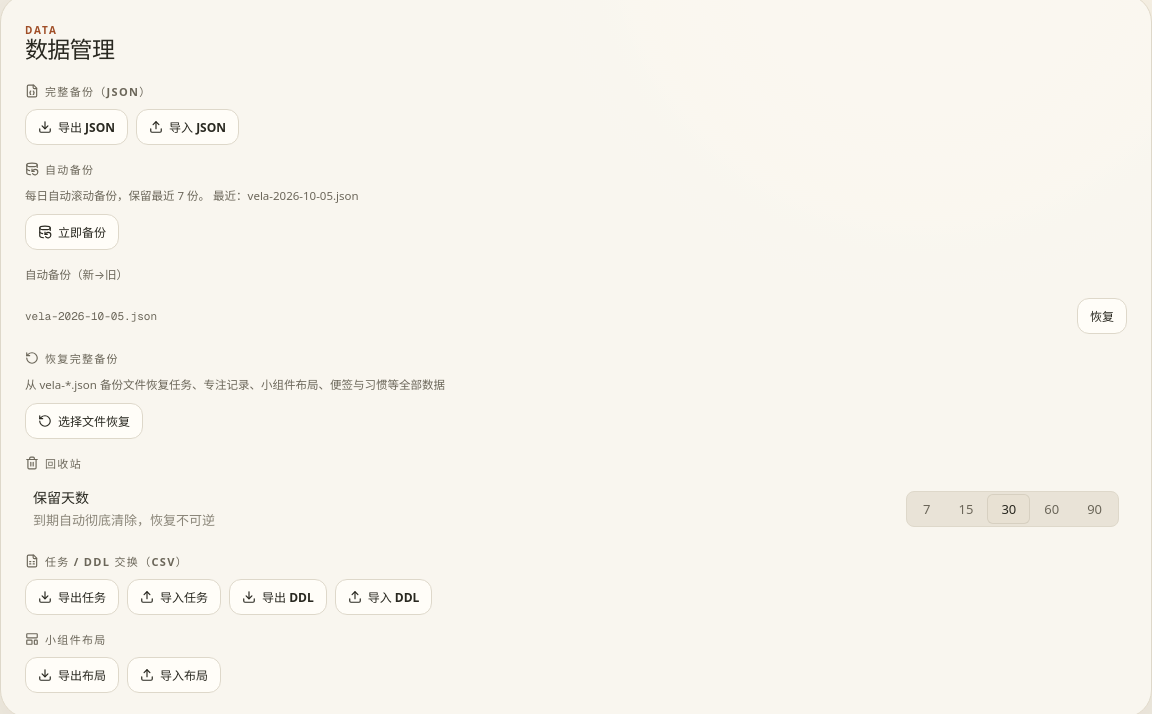
Test: DataPanel · 恢复失败（P1-7 PostImportError 路径） › 导入成功但镜像写回抛错：flash 显示「已导入数据库，但本地数据镜像写回失败」文案，遮罩消退，闸门未 release
What coordinates should you click on to do the following:
click the button "恢复"
I would click on:
 (1102, 316)
Its box is [1077,298,1127,334].
(page scrolled)
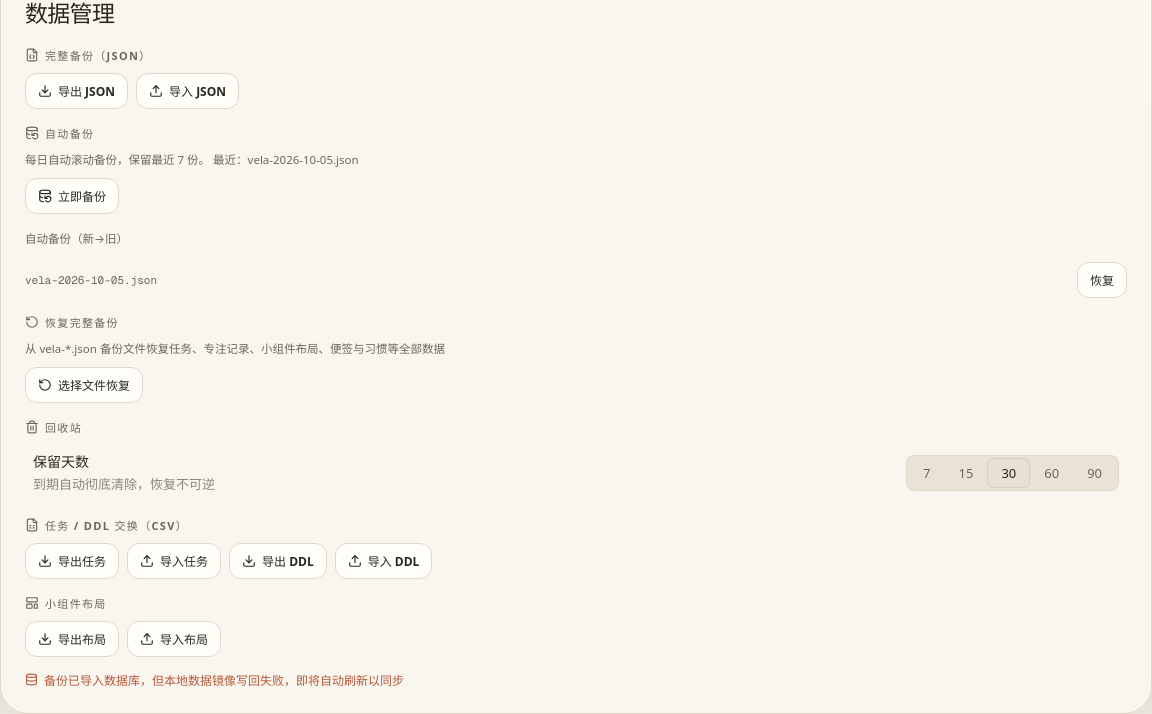
Expected: the message reads "备份已导入数据库，但本地数据镜像写回失败，即将自动刷新以同步", [44,672,404,689]
